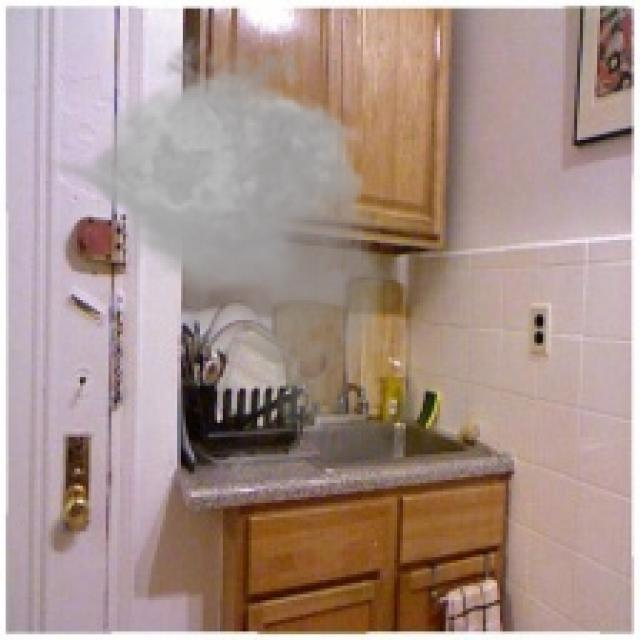Smoke: (40, 23, 403, 440)
